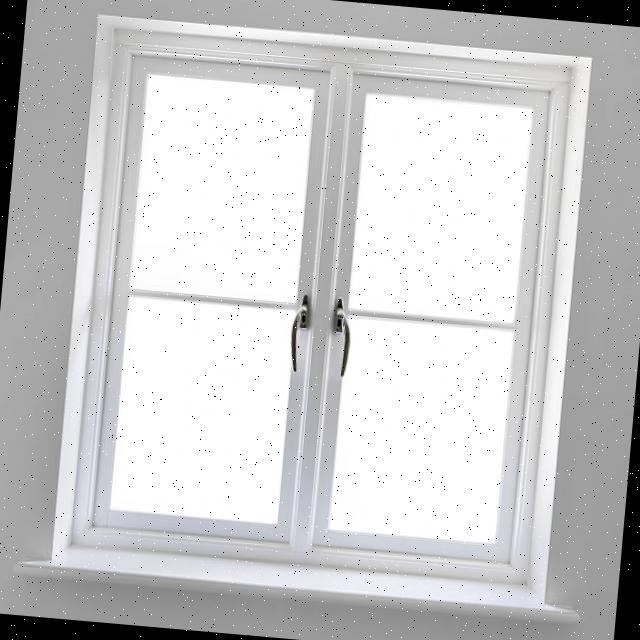Window: (38, 1, 616, 616)
